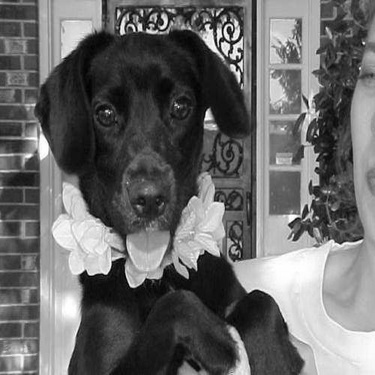dog: (28, 24, 309, 372)
